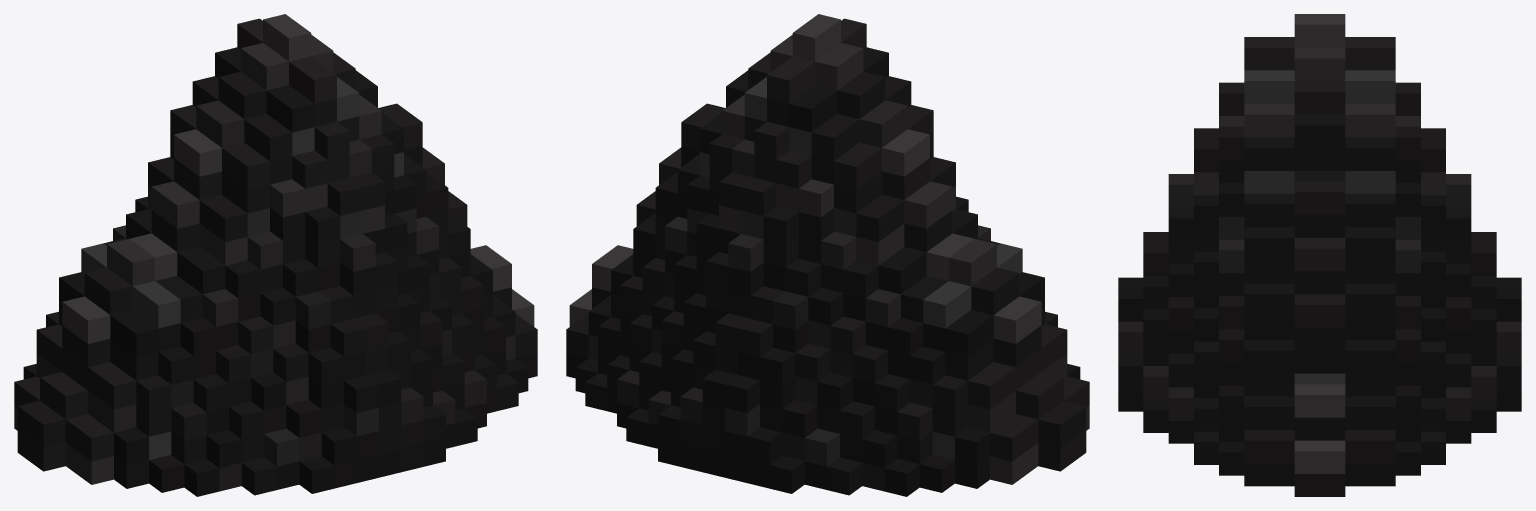
The model's file is Coal_full.glb.
The picture shows the model from 3 angles, left to right: view 1: azimuth 30°, elevation 25°; view 2: azimuth 150°, elevation 25°; view 3: azimuth 270°, elevation 25°; orthographic projection. The views are drawn at different scales.
Visible parts, largest first — view 1: generated(Clone); view 2: generated(Clone); view 3: generated(Clone).
Boxes of the visible parts, box(x1,y1,x2,y2) form: generated(Clone): box(14, 14, 537, 496); generated(Clone): box(566, 14, 1089, 496); generated(Clone): box(1118, 14, 1521, 496).
Bounding box in the file's own units: 22 × 16 × 16.
1 material, 1 textured.
